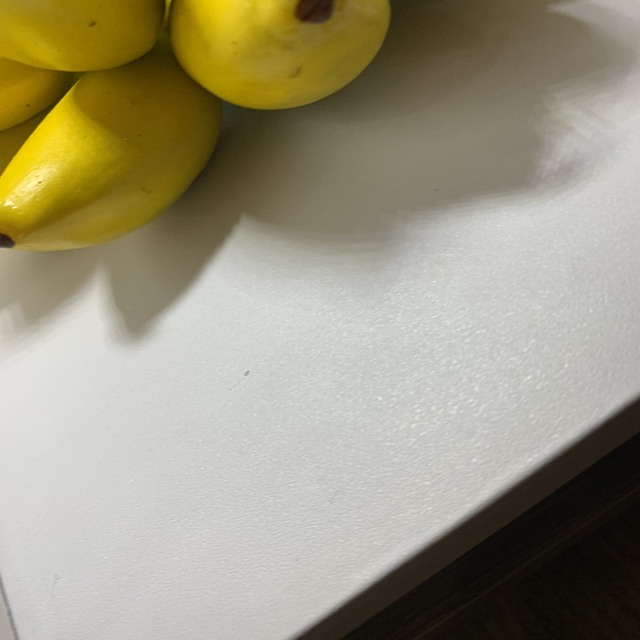Chuoi: (0, 0, 400, 258)
